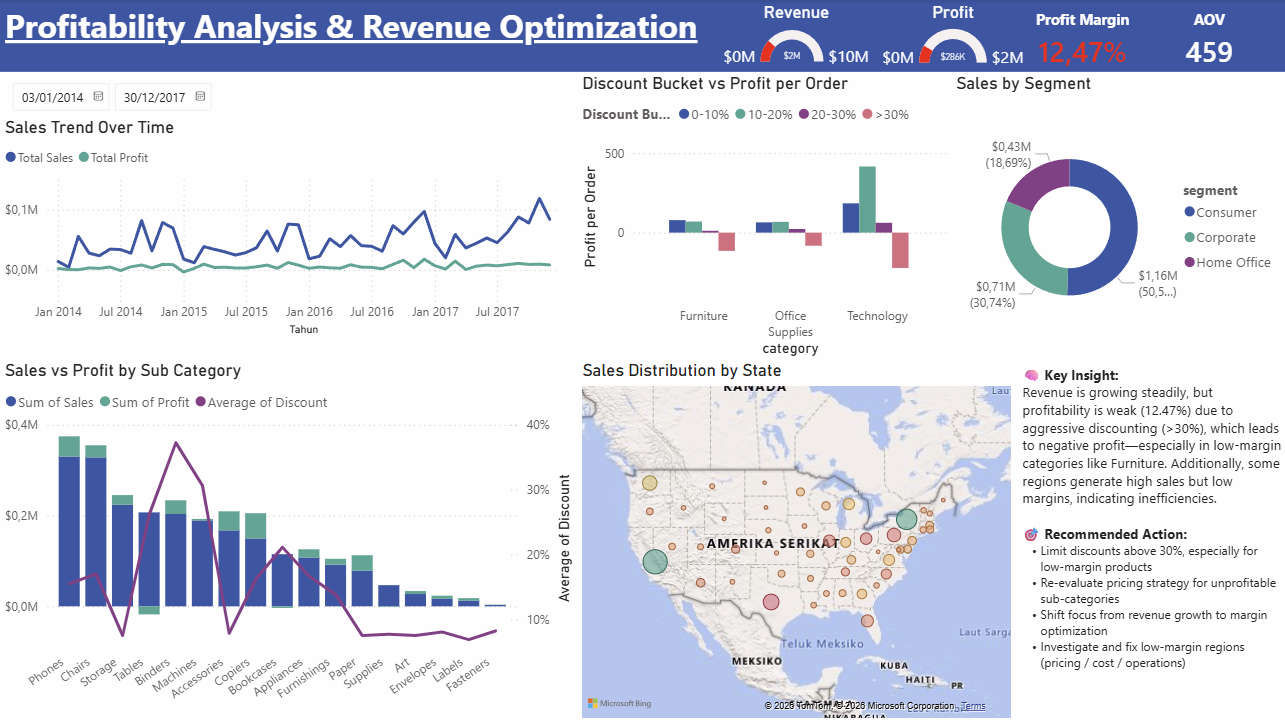

The dashboard page shown, as its layout file describes it:
{"tool":"powerbi","page":{"name":"Sales Overview","canvas":[1280,720],"ordinal":0},"visuals":[{"type":"shape","box":[0,0,1280,72.5],"z":0},{"type":"textbox","box":[0,0,720.4,72.7],"z":1000},{"type":"cardVisual","fields":{"Data":["fact_sales.Profit Margin","fact_sales.Average Order Value (AOV)"]},"box":[1001.7,0,278.6,79.6],"z":2000},{"type":"lineChart","title":"Sales Trend Over Time","fields":{"Y":["fact_sales.Total Sales","fact_sales.Total Profit"],"Category":["dim_date.order_date.Variasi.Hierarki Tanggal.Tahun","dim_date.order_date.Variasi.Hierarki Tanggal.Kuartal","dim_date.order_date.Variasi.Hierarki Tanggal.Bulan"]},"box":[0,117.1,574.3,222.9],"z":3000},{"type":"clusteredColumnChart","title":"Discount Bucket vs Profit per Order","fields":{"Category":["dim_product.category"],"Series":["fact_sales.Discount Bucket"],"Y":["fact_sales.Profit per Order"]},"box":[574.3,72.9,372.9,287.1],"z":4000},{"type":"lineStackedColumnComboChart","title":"Sales vs Profit by Sub Category","fields":{"Category":["dim_product.sub_category"],"Y":["Sum(fact_sales.Sales)","Sum(fact_sales.Profit)"],"Y2":["Avg(fact_sales.Discount)"]},"box":[0,360,574.3,360],"z":5000},{"type":"map","title":"Sales Distribution by State","fields":{"Category":["dim_location.state","dim_location.country","dim_location.city"],"Size":["Sum(fact_sales.Sales)"]},"box":[575,359.5,436.4,360.9],"z":6000},{"type":"slicer","fields":{"Values":["fact_sales.Order_Date"]},"box":[0,72.9,218.6,44.3],"z":7000},{"type":"gauge","fields":{"Y":["fact_sales.Total Sales"]},"box":[710.8,2.7,164.7,72.7],"z":8000},{"type":"gauge","fields":{"Y":["fact_sales.Total Profit"]},"box":[868.6,2.7,160.5,72.7],"z":9000},{"type":"textbox","box":[1012,360,268,360],"z":10000},{"type":"donutChart","title":"Sales by Segment","fields":{"Category":["dim_customer.segment"],"Y":["Sum(fact_sales.Sales)"]},"box":[947.1,72.9,332.9,287.1],"z":11000}]}

Visuals, with their boxes in screenshot pixels (x1, y1, x2, y2), scaled from the page's 1280x720 canvas onto the 1285x721 screenshot:
shape: x1=0 y1=0 x2=1284 y2=73
textbox: x1=0 y1=0 x2=723 y2=73
cardVisual - fact_sales.Profit Margin x fact_sales.Average Order Value (AOV): x1=1006 y1=0 x2=1284 y2=80
"Sales Trend Over Time" lineChart: x1=0 y1=117 x2=577 y2=340
"Discount Bucket vs Profit per Order" clusteredColumnChart: x1=577 y1=73 x2=951 y2=360
"Sales vs Profit by Sub Category" lineStackedColumnComboChart: x1=0 y1=360 x2=577 y2=720
"Sales Distribution by State" map: x1=577 y1=360 x2=1015 y2=720
slicer - fact_sales.Order_Date: x1=0 y1=73 x2=219 y2=117
gauge - fact_sales.Total Sales: x1=714 y1=3 x2=879 y2=76
gauge - fact_sales.Total Profit: x1=872 y1=3 x2=1033 y2=76
textbox: x1=1016 y1=360 x2=1284 y2=720
"Sales by Segment" donutChart: x1=951 y1=73 x2=1284 y2=360
